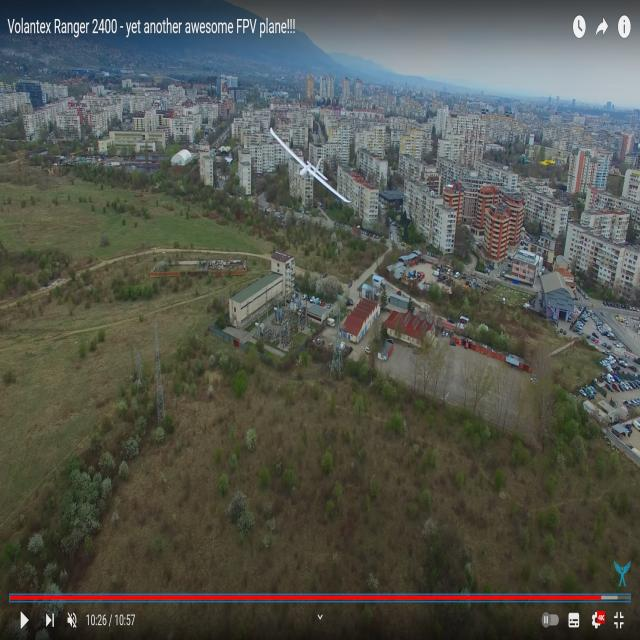iha: (300, 156, 318, 182)
